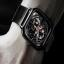watch: (18, 7, 54, 51)
